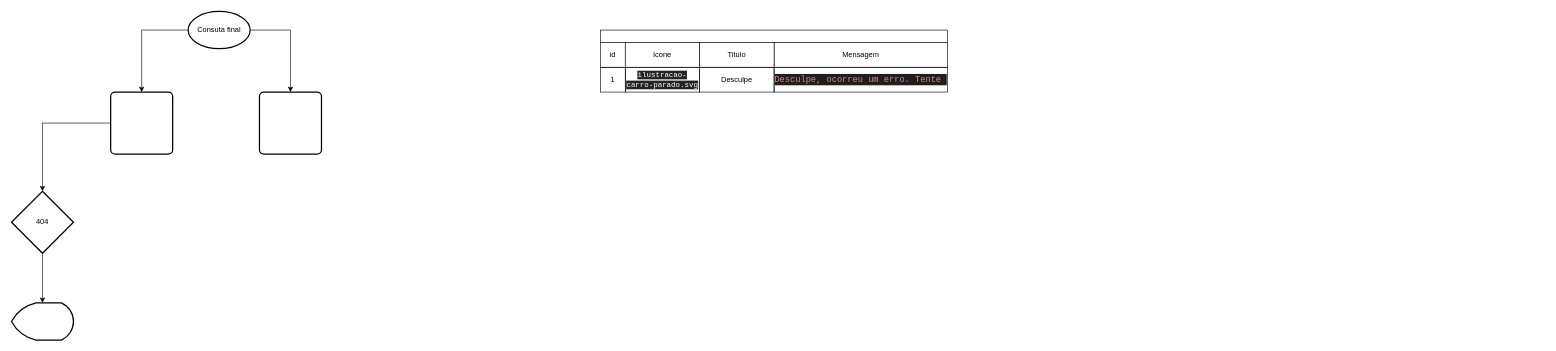
Some shapes in this 1556 by 351 pixel diagram are drawn without their labels. Each missing label, with the centre of its shape:
"Alerta 1" belongs at pixel 42 321.
"Alertas" belongs at pixel 774 35.
"Erro" belongs at pixel 141 122.
"Sucesso" belongs at pixel 290 122.
